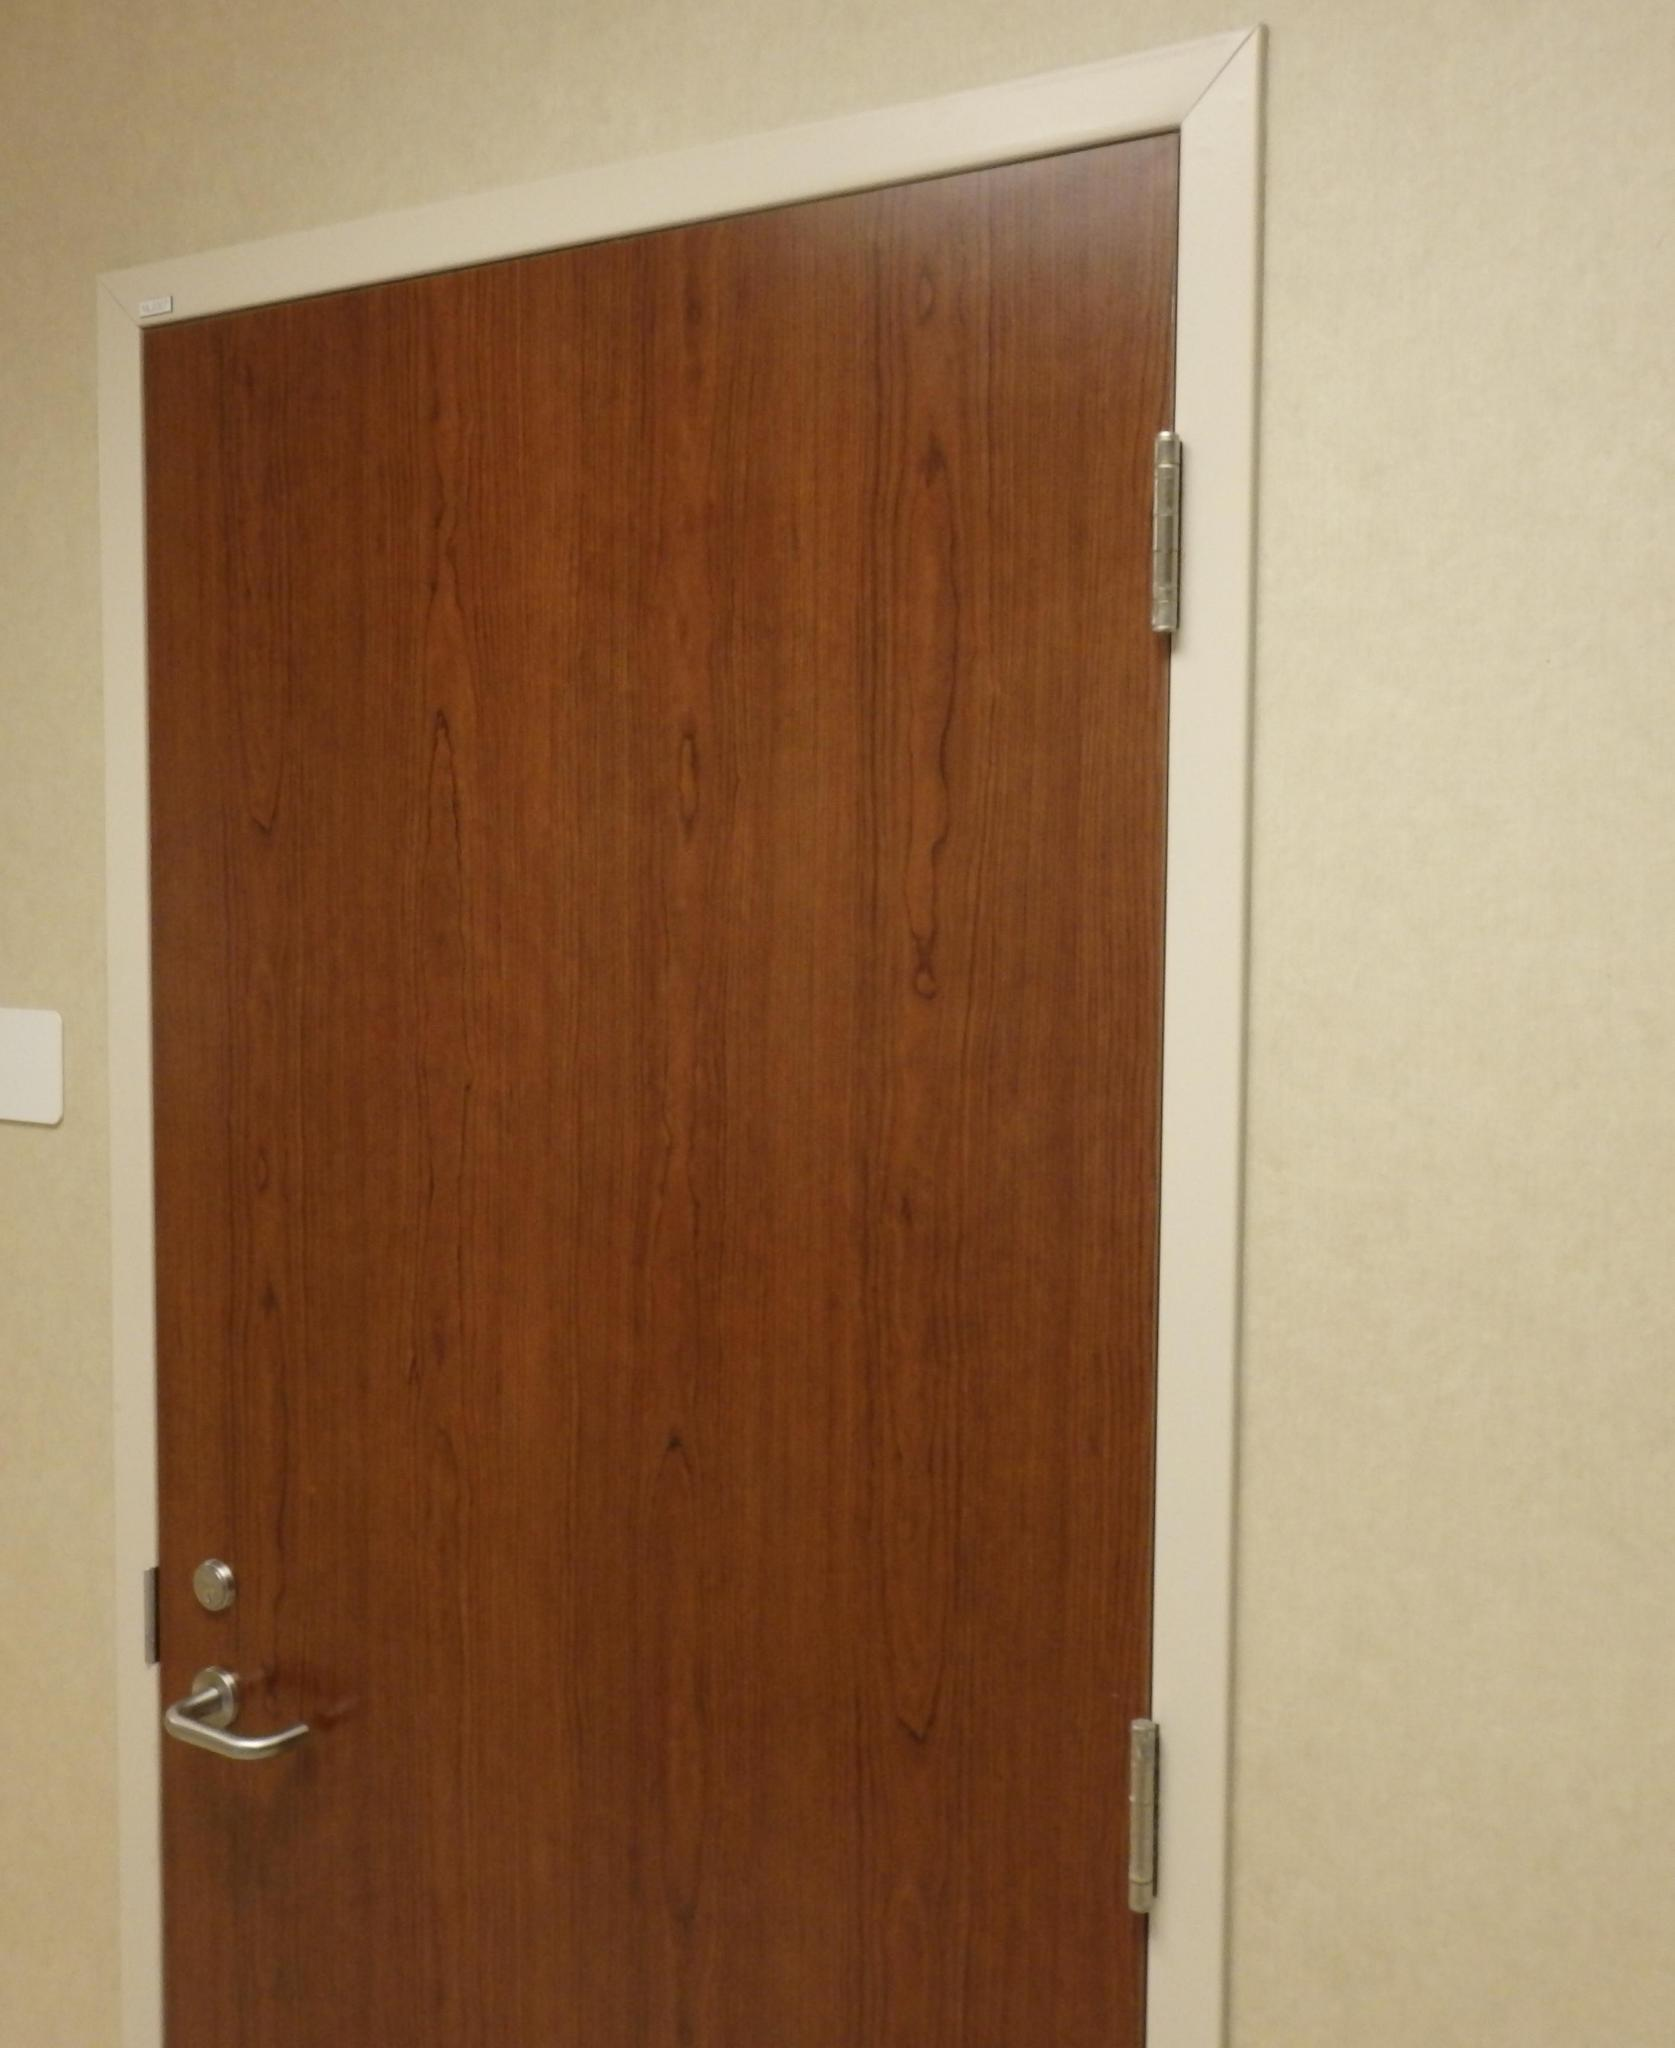door: (153, 366, 1151, 2048)
handle: (145, 1647, 309, 1812)
